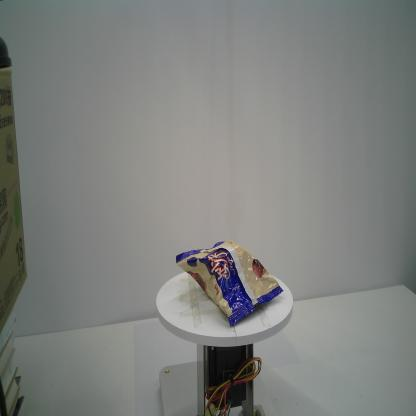Dessert: (174, 236, 284, 332)
